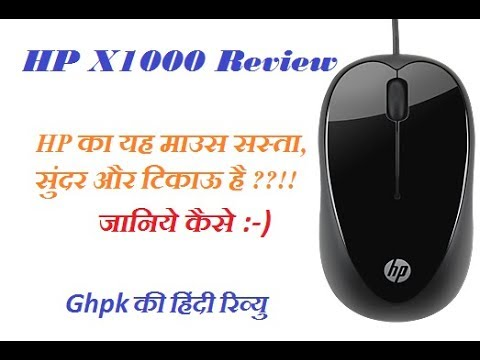hp-mouse-X1000: (321, 18, 474, 318)
